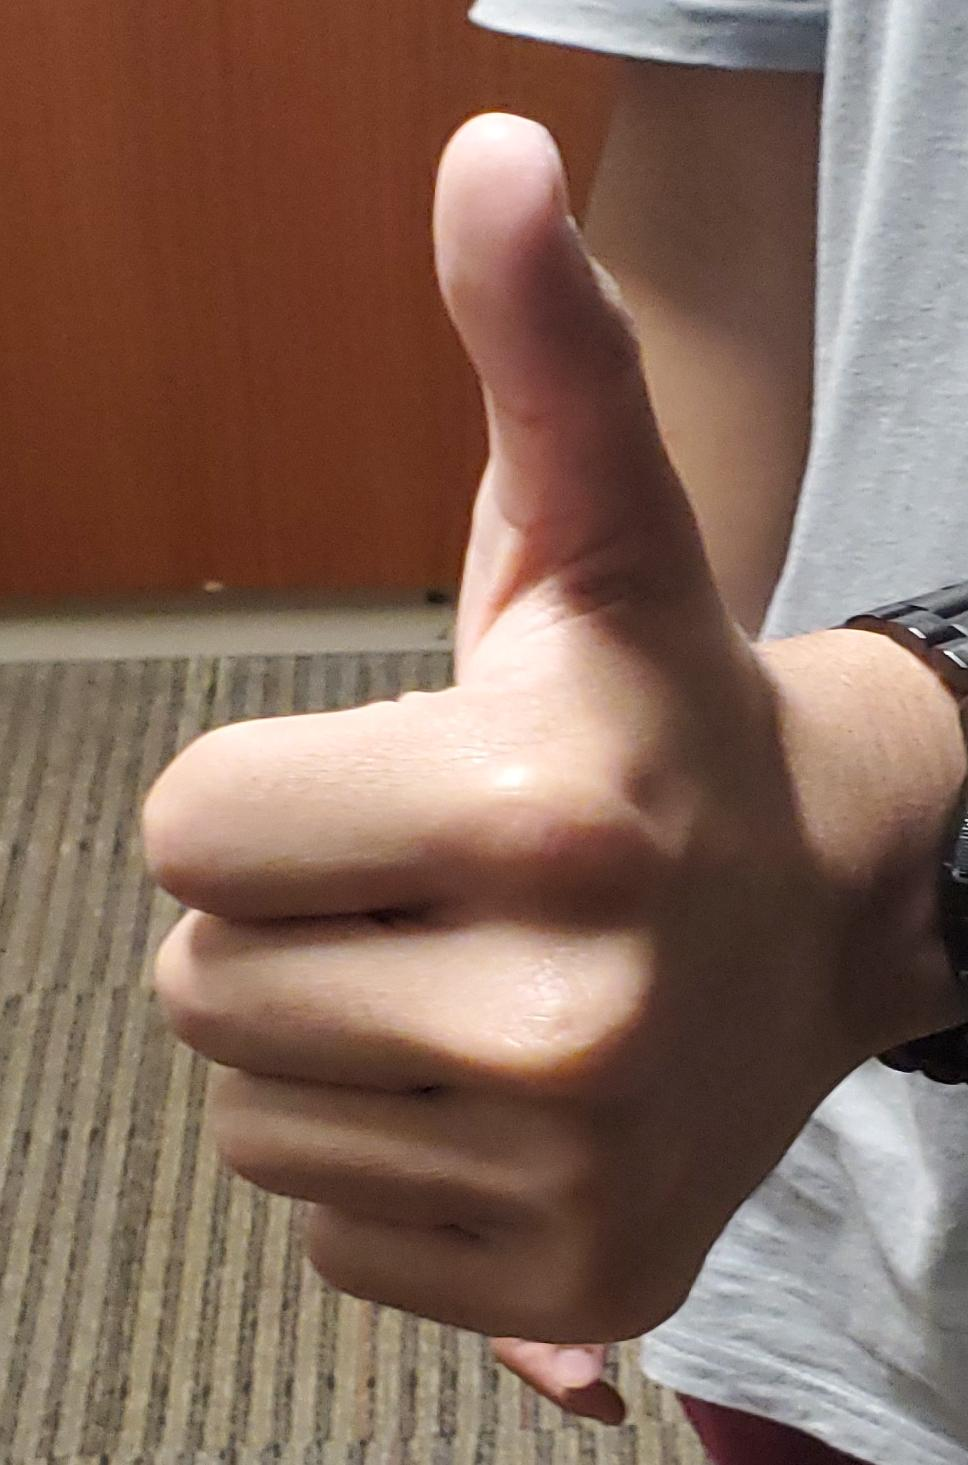up: (0, 1, 968, 1465)
